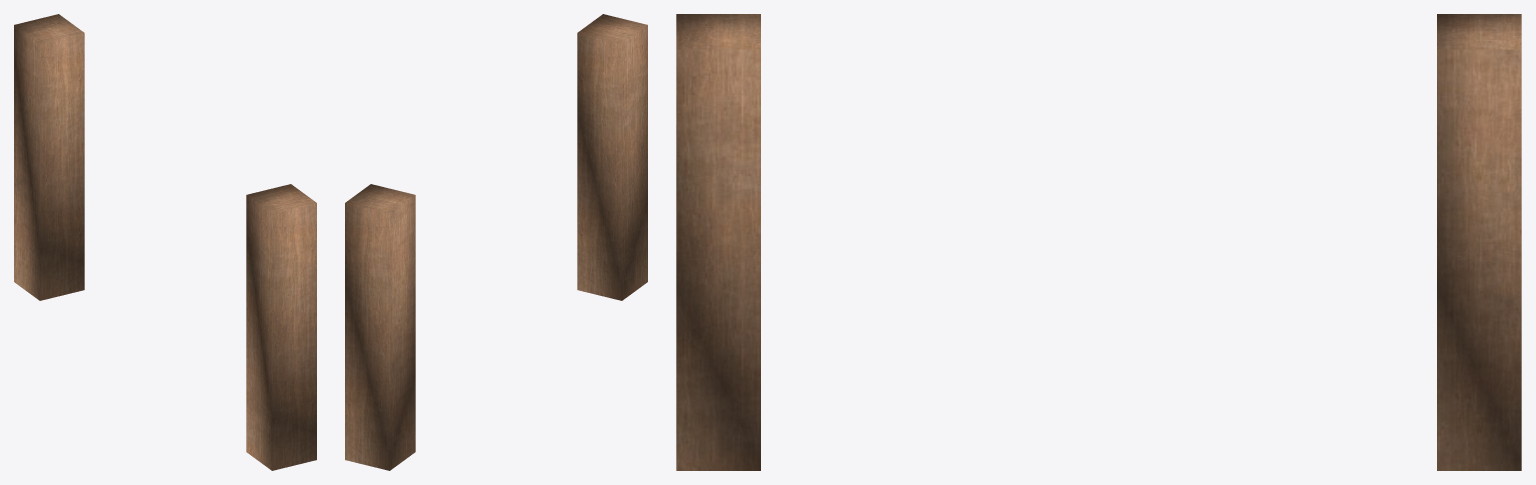
The picture shows the model from 3 angles, left to right: view 1: azimuth 30°, elevation 25°; view 2: azimuth 150°, elevation 25°; view 3: azimuth 270°, elevation 25°; orthographic projection. The views are drawn at different scales.
Parts seen in each view (by area): view 1: Cube151_Wood_02001_0; view 2: Cube151_Wood_02001_0; view 3: Cube151_Wood_02001_0.
Part boxes in pixels (<box>): Cube151_Wood_02001_0: <box>14,14,316,470</box>; Cube151_Wood_02001_0: <box>345,14,647,470</box>; Cube151_Wood_02001_0: <box>676,14,1521,470</box>.
Size of the model in its own units: 0.2 by 1.1 by 2.
1 material, 1 textured.
